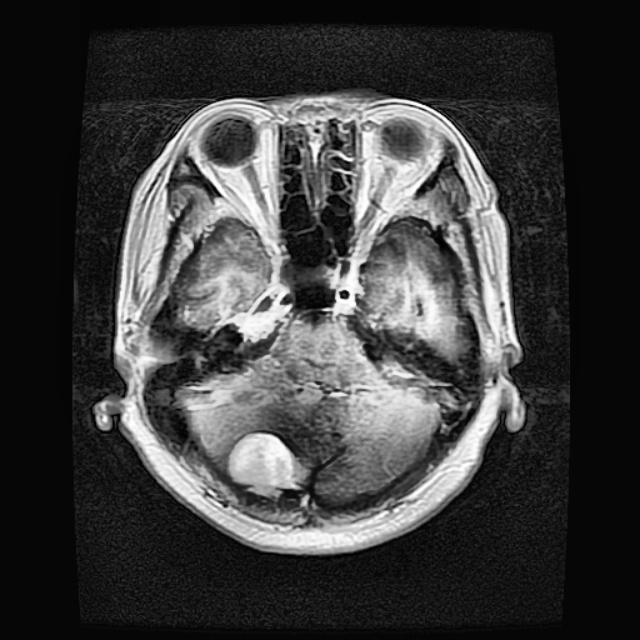Pituitary: (228, 432, 295, 495)
